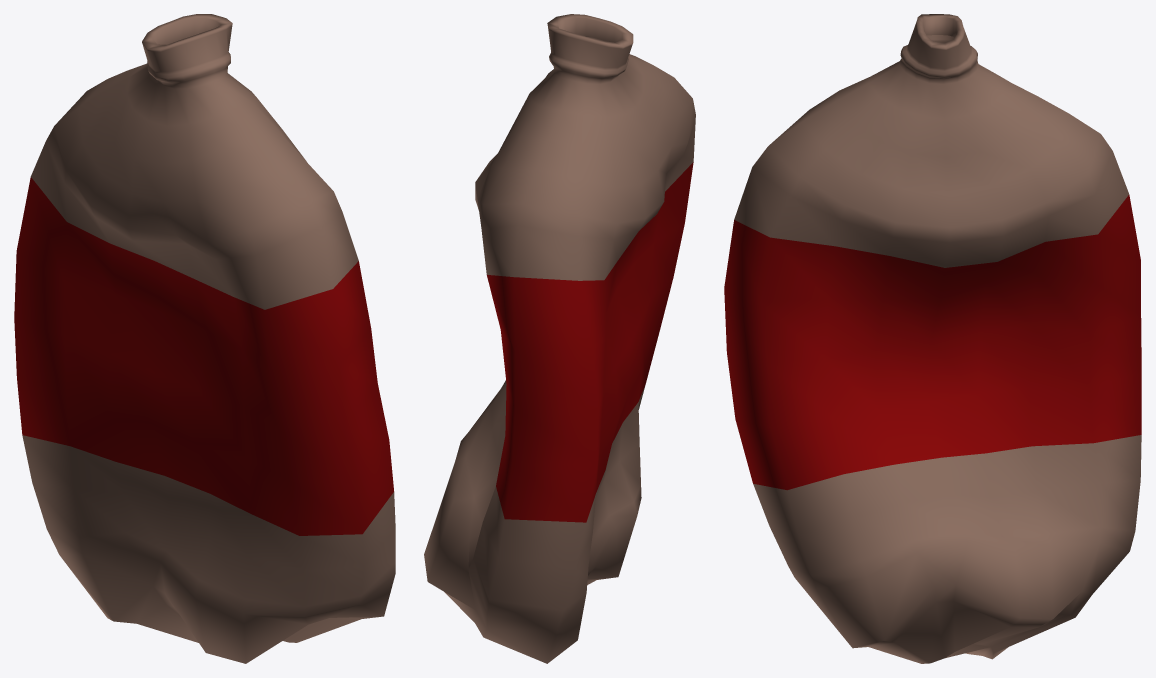
File: Mesh_SodaBottle_L_Crushed.fbx
3 views of the same model, side by side, from view 1: azimuth 30°, elevation 25°; view 2: azimuth 150°, elevation 25°; view 3: azimuth 270°, elevation 25° (orthographic). The views are drawn at different scales.
Visible parts, largest first — view 1: SodaBottle_L.001; view 2: SodaBottle_L.001; view 3: SodaBottle_L.001.
Part boxes in pixels (left/top/right/bottom): SodaBottle_L.001: left=14, top=14, right=395, bottom=663; SodaBottle_L.001: left=424, top=14, right=695, bottom=663; SodaBottle_L.001: left=724, top=14, right=1141, bottom=663.
Size of the model in its own units: 19.04 by 45.6 by 28.3.
